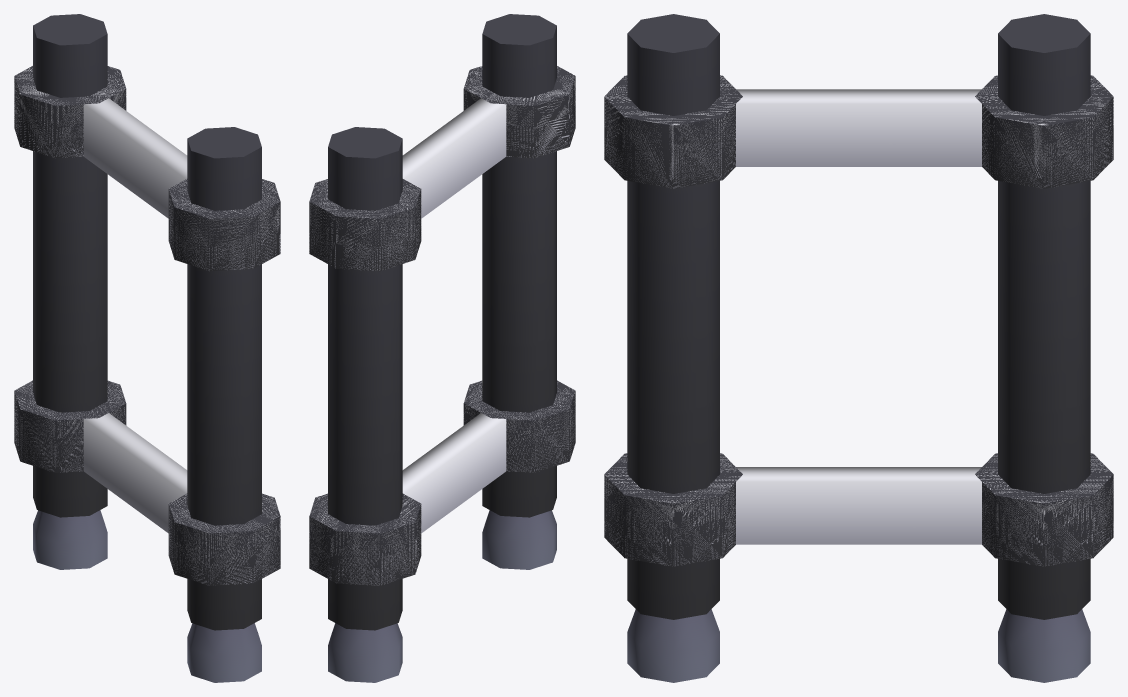
Rendered from structure-yellow-high.obj.
3 renders of one model, left to right at view 1: azimuth 30°, elevation 25°; view 2: azimuth 150°, elevation 25°; view 3: azimuth 270°, elevation 25°, orthographic. The views are drawn at different scales.
Visible parts, largest first — view 1: structure-yellow-high; view 2: structure-yellow-high; view 3: structure-yellow-high.
Boxes of the visible parts, x1,y1,x2,y2 form: structure-yellow-high: [14, 14, 280, 682]; structure-yellow-high: [309, 14, 575, 682]; structure-yellow-high: [604, 14, 1113, 682].
Bounding box in the file's own units: 0.3 × 1.5 × 1.1.
